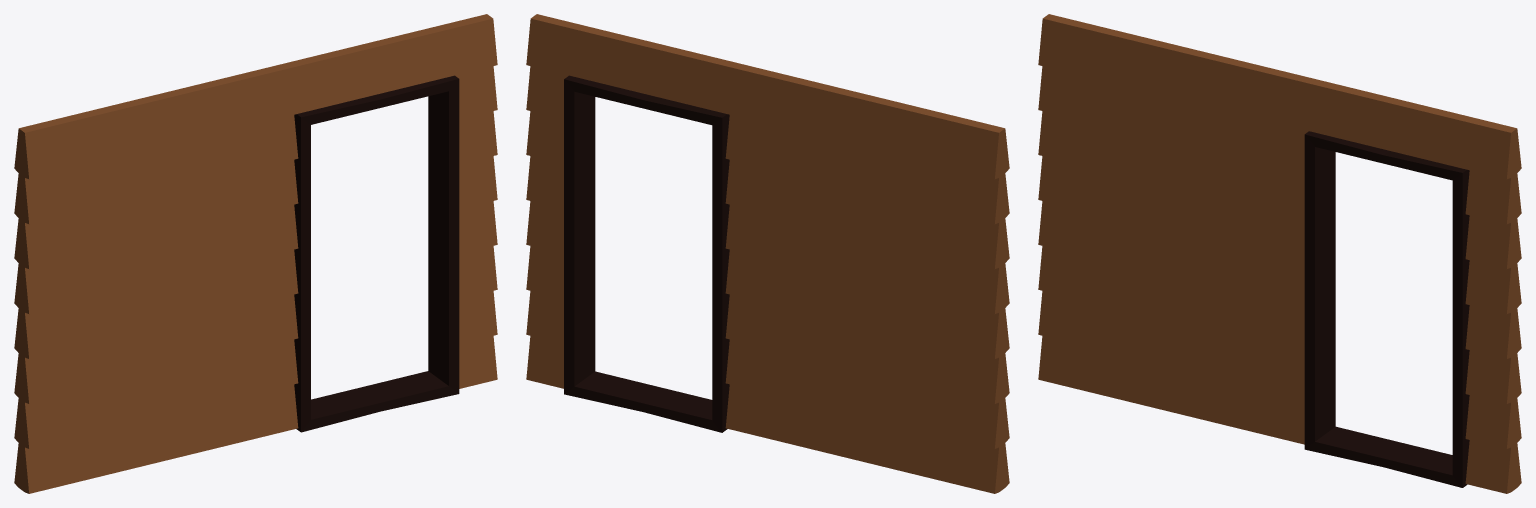
File: ww_wall_door_b.glb
3 views of the same model, side by side, from view 1: azimuth 30°, elevation 25°; view 2: azimuth 150°, elevation 25°; view 3: azimuth 330°, elevation 25° (orthographic).
Visible parts, largest first — view 1: Wall_Door_B; view 2: Wall_Door_B; view 3: Wall_Door_B.
Part boxes in pixels (left/top/right/bottom): Wall_Door_B: left=14, top=14, right=497, bottom=493; Wall_Door_B: left=526, top=14, right=1009, bottom=493; Wall_Door_B: left=1038, top=14, right=1521, bottom=493.
Size of the model in its own units: 4.8 by 3.53 by 0.3744.
